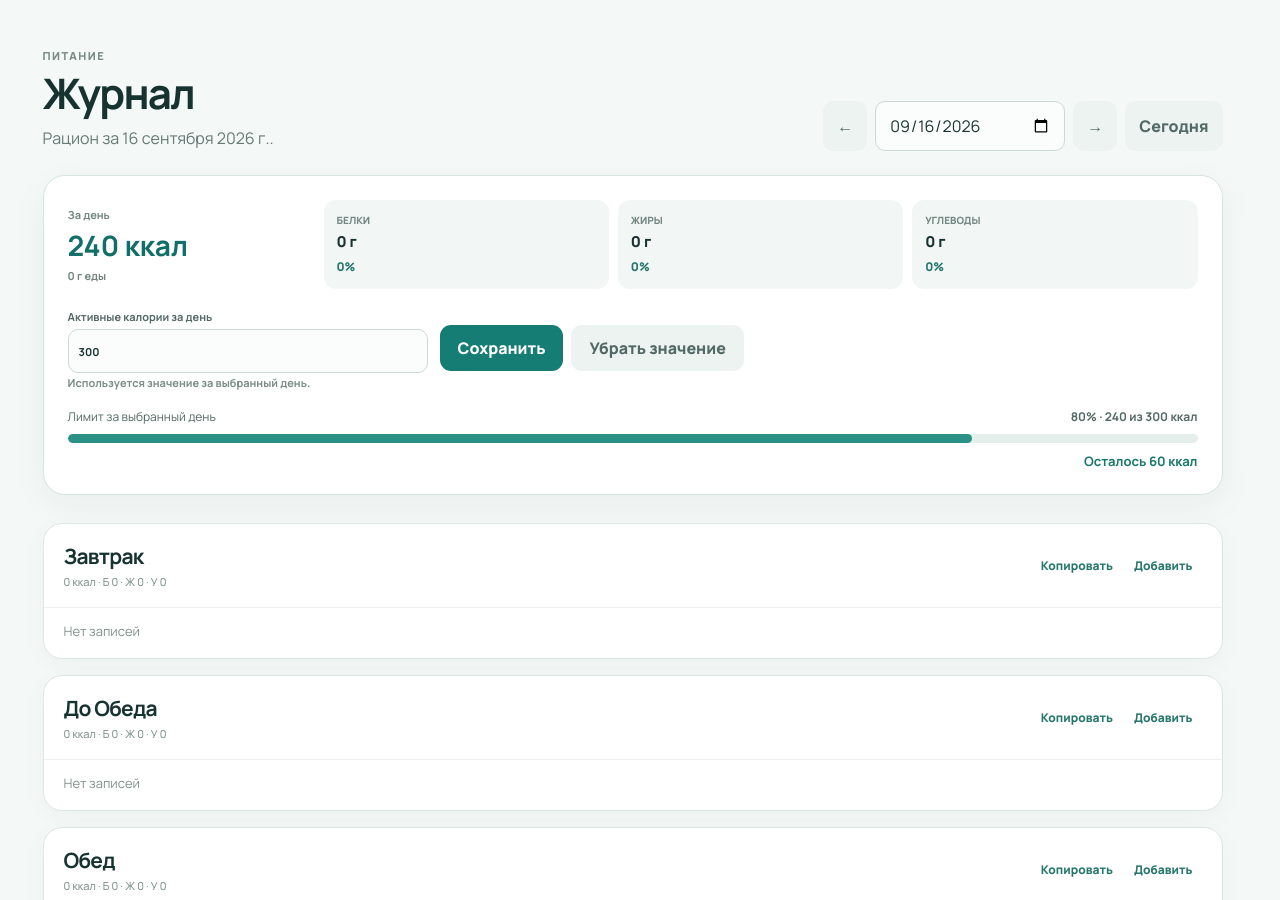
Scenario: активные калории в журнале › использует дневное значение вместо дефолта и сохраняет числовой ввод
Expected: the text "80% · 240 из 300 ккал" is shown, [1071, 408, 1198, 425]
Expected: the text "Лимит за выбранный день" is shown, [68, 408, 216, 425]
Replace the text in the field labelled "Активные калории за день" with "около 2750,5 ккал": (248, 351) [68, 329, 428, 373]
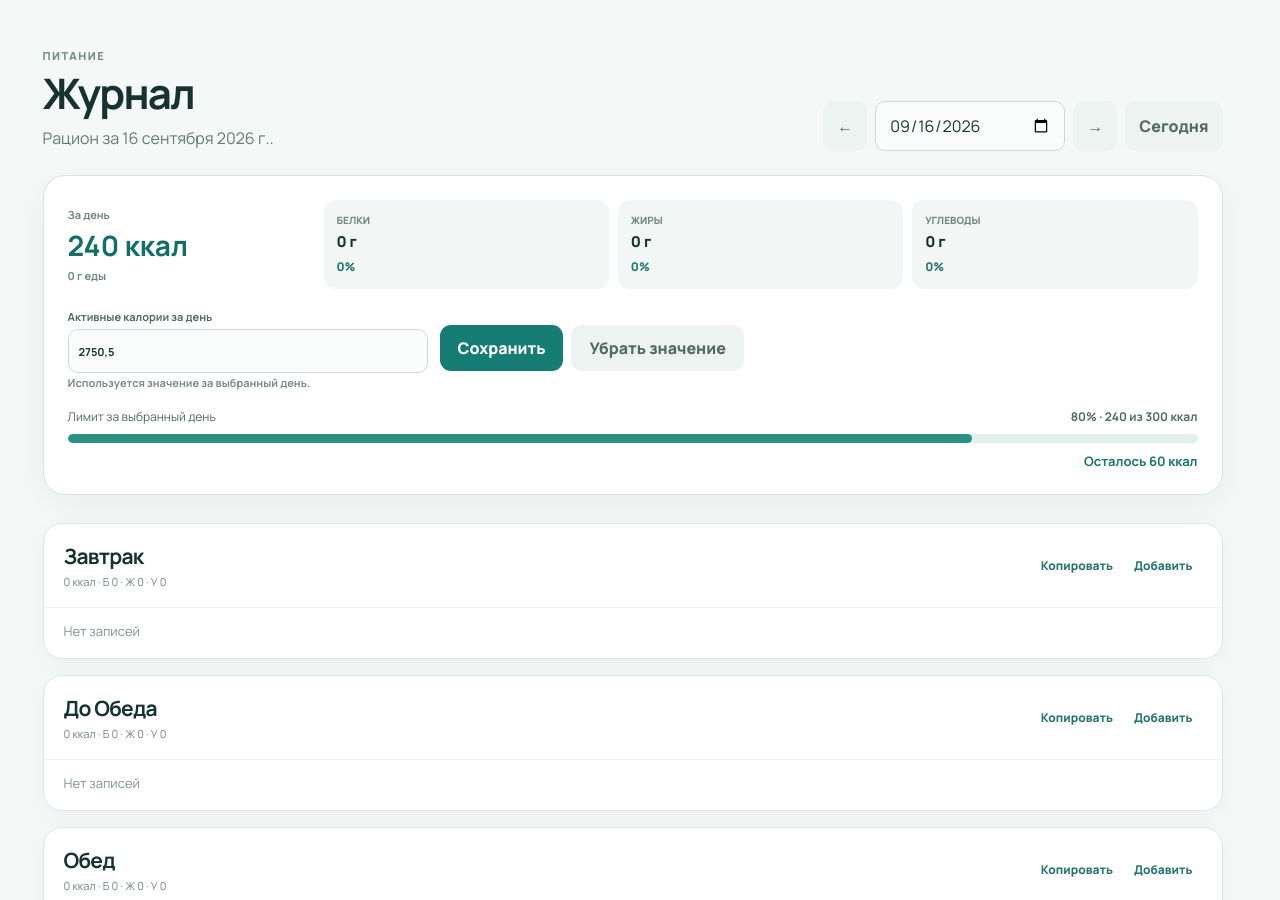
Now the field labelled "Активные калории за день" holds "2750,5", box [68, 329, 428, 373]
Click the button "Сохранить": (502, 348) [440, 325, 564, 371]
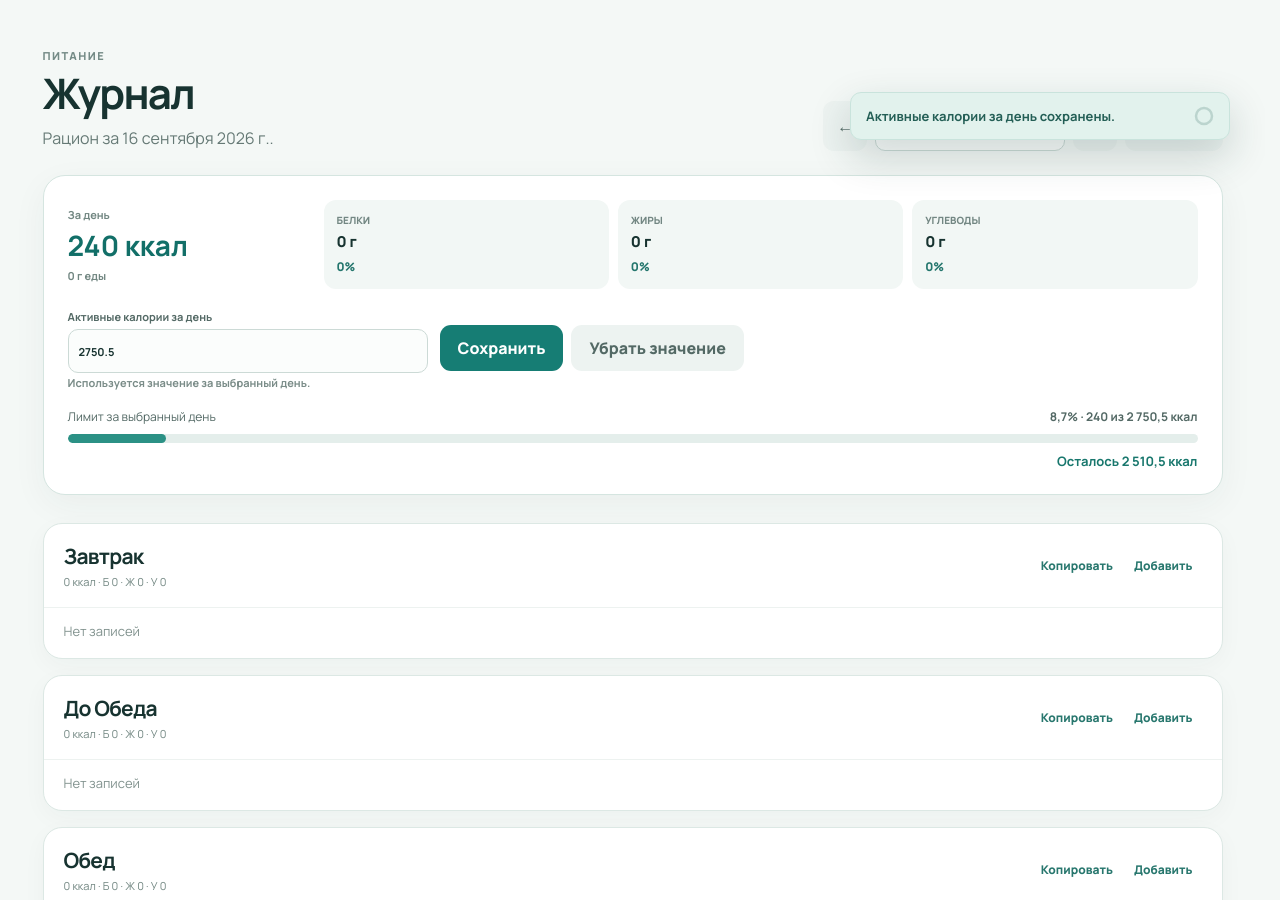
Now the text "Активные калории за день сохранены." is shown, box [866, 107, 1115, 125]
